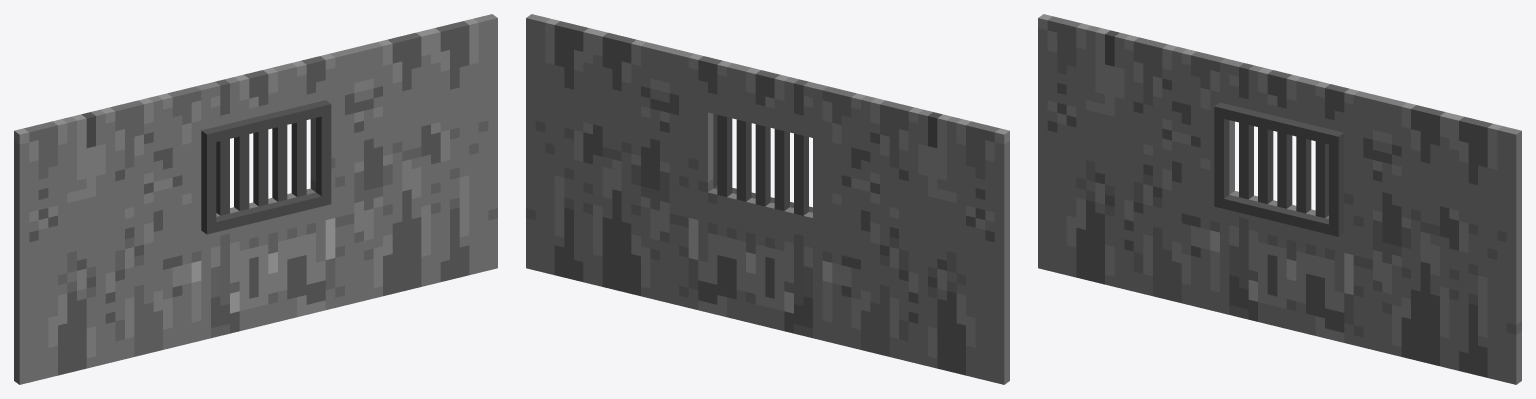
The model's file is Hallway Wall Only.obj.
3 renders of one model, left to right at view 1: azimuth 30°, elevation 25°; view 2: azimuth 150°, elevation 25°; view 3: azimuth 330°, elevation 25°, orthographic.
Size of the model in its own units: 50 by 25 by 2.
1 material, 1 textured.
